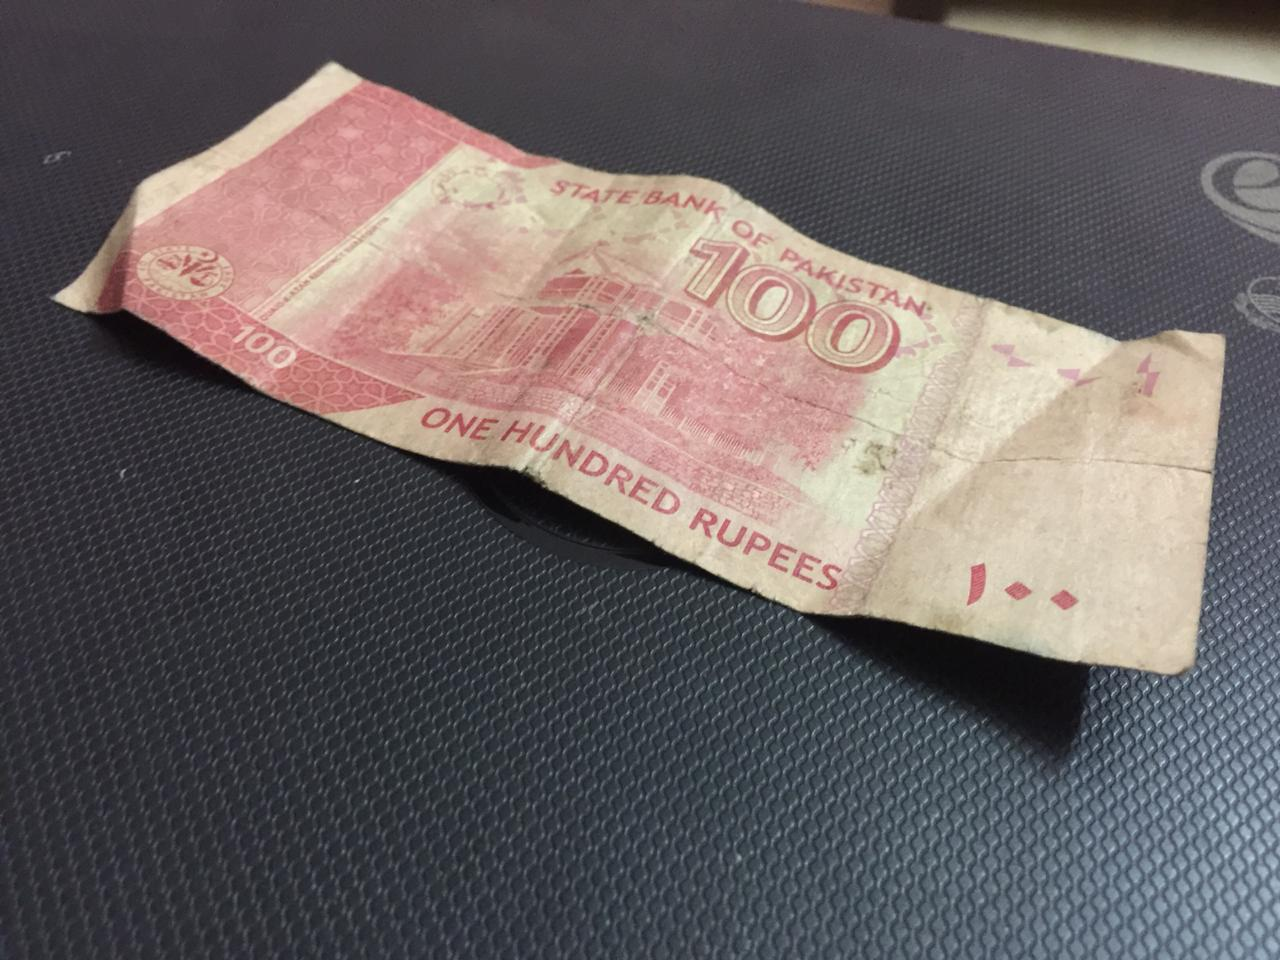100 rupee: (48, 57, 1257, 678)
